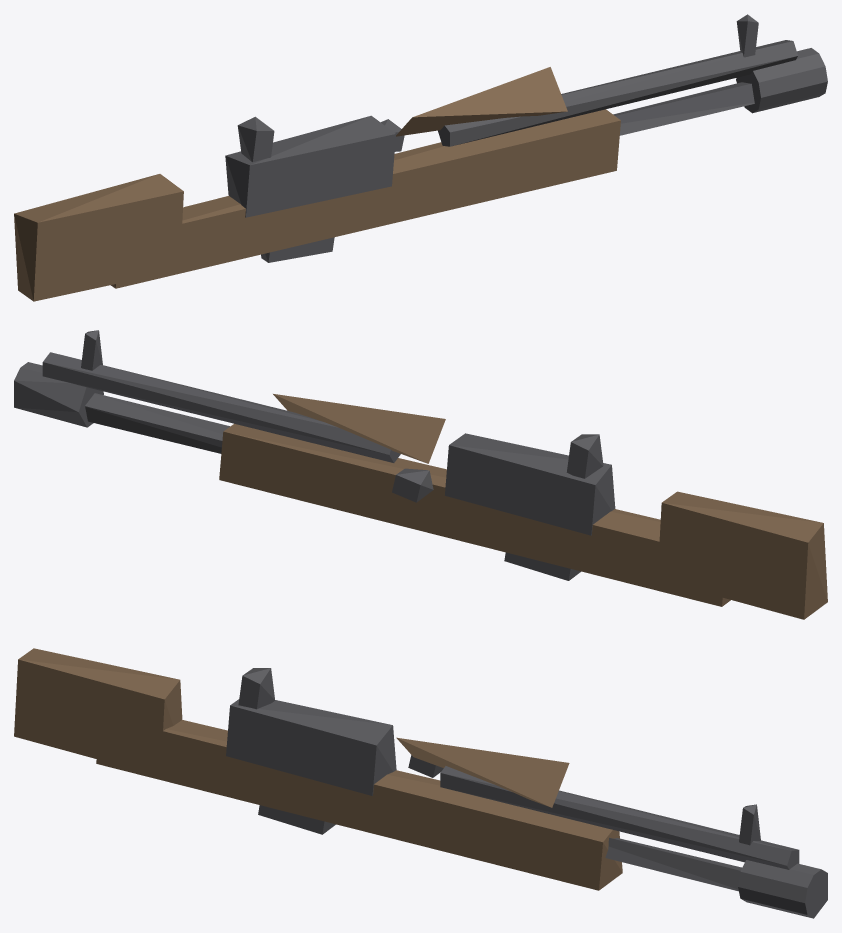
Rendered from weapon_rifle_us_ww2.lod2.glb.
The picture shows the model from 3 angles, top to bottom: view 1: azimuth 30°, elevation 25°; view 2: azimuth 150°, elevation 25°; view 3: azimuth 330°, elevation 25°; orthographic projection.
Bounding box in the file's own units: 1.16 × 0.1975 × 0.1035.
